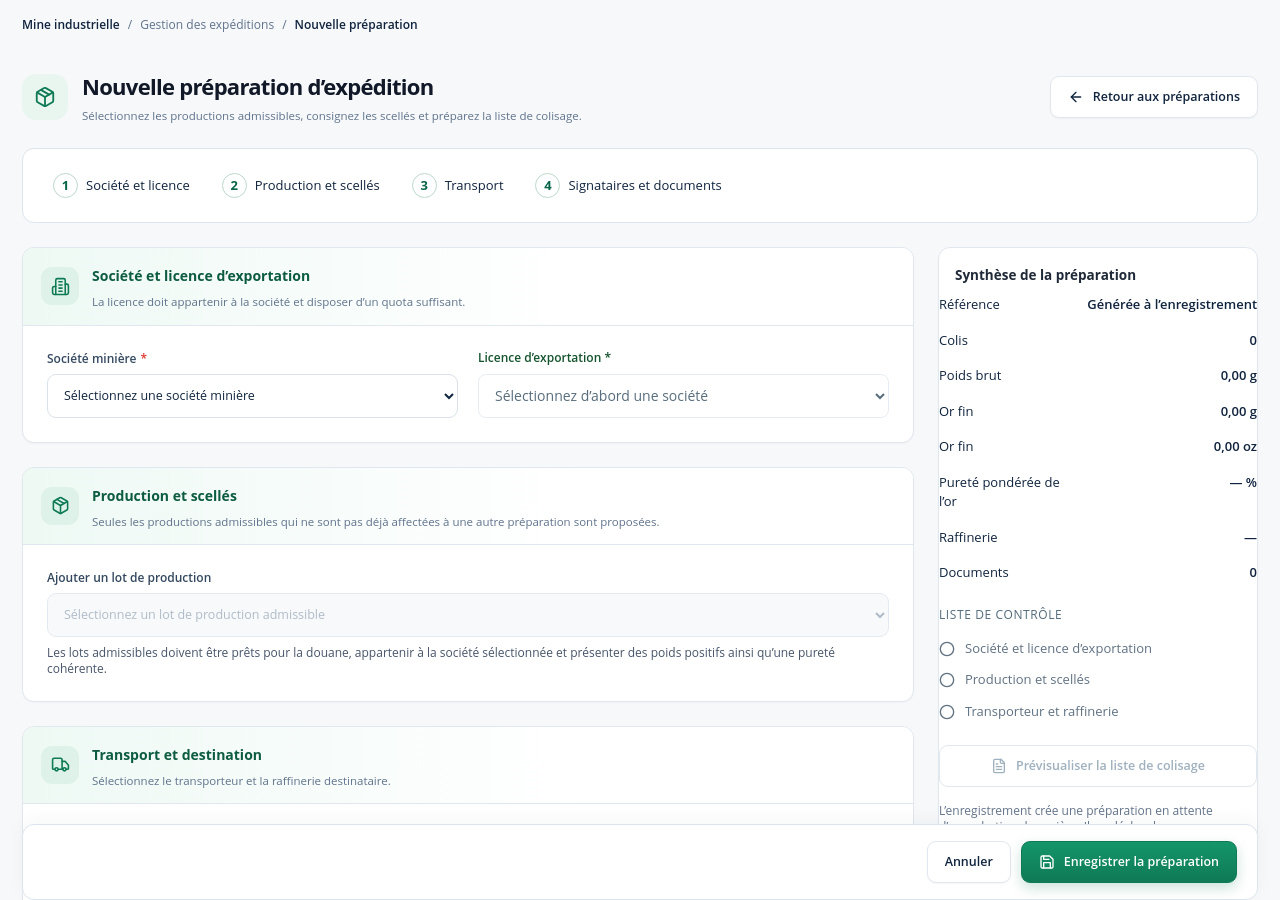
Test: ShippingPreparationNew regression coverage › excludes a physically invalid production and announces the reason accessibly
The image size is (1280, 900).
Select "Mine A (MA)" in the dropdown labelled "Société minière *" at (252, 396), box [47,374,458,418]
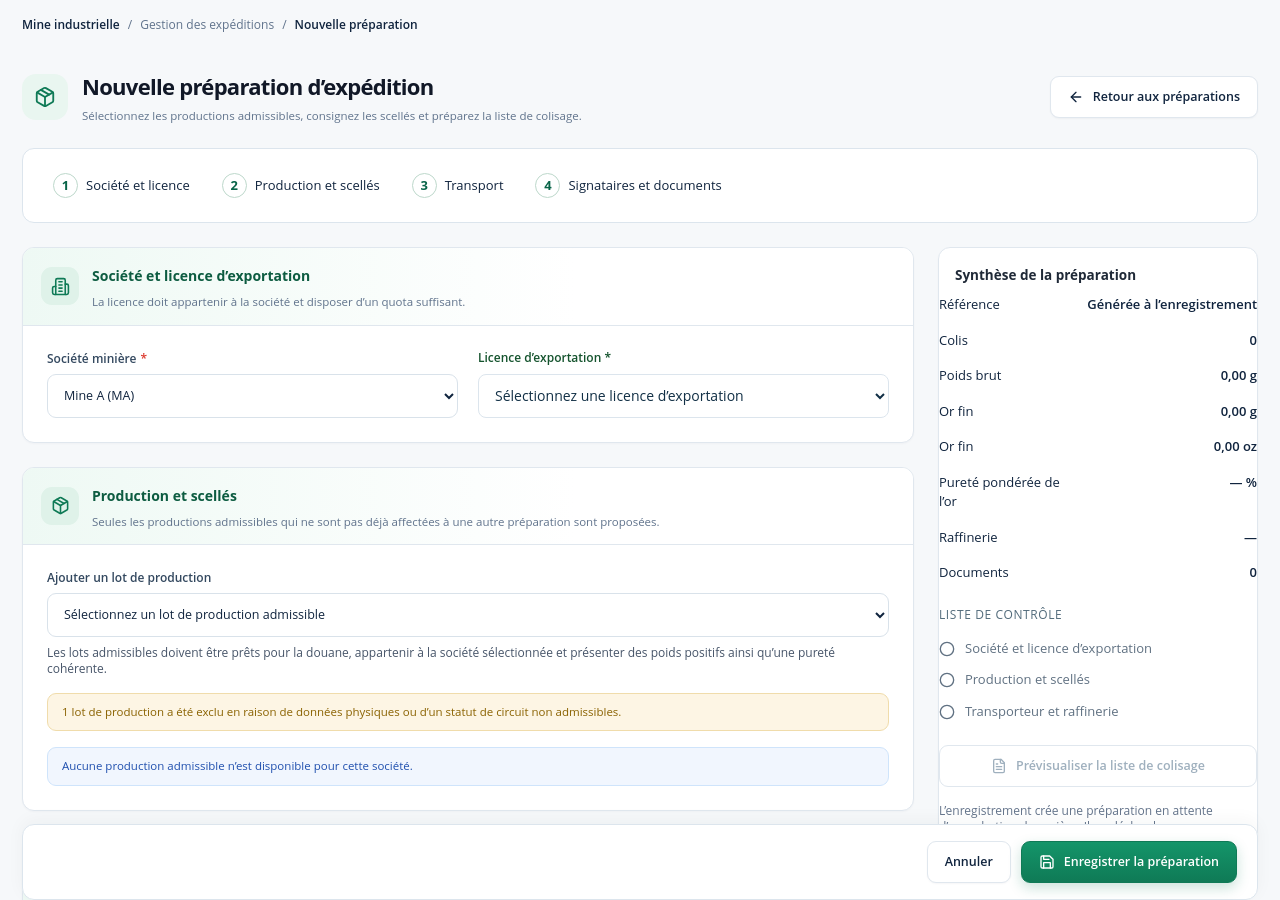
Result: the text "1 lot de production a été exclu" is shown at [47,693,889,732]
